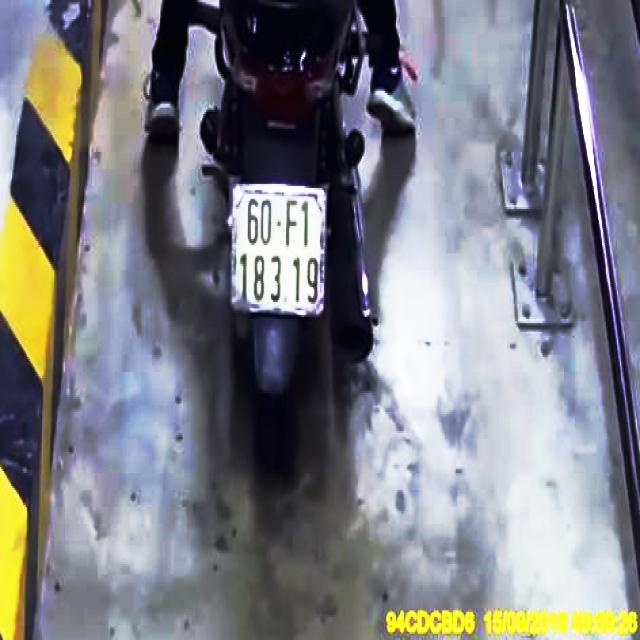license_plate: (231, 187, 327, 315)
